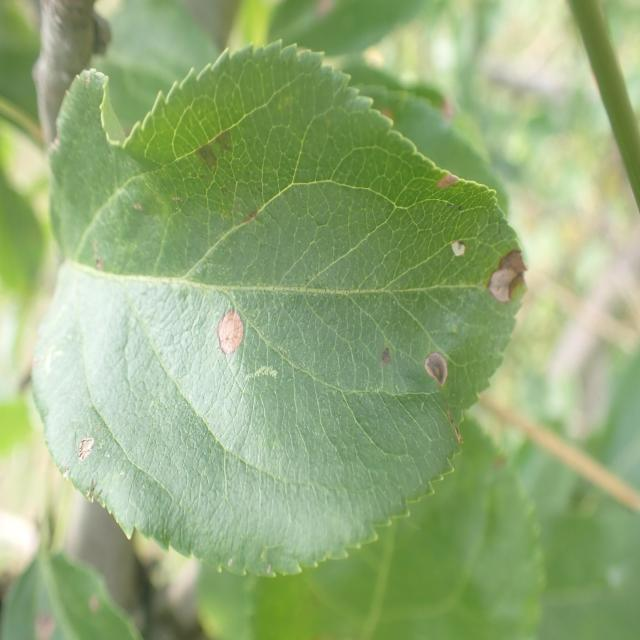frog-eye-leaf-spot: (30, 39, 528, 577)
